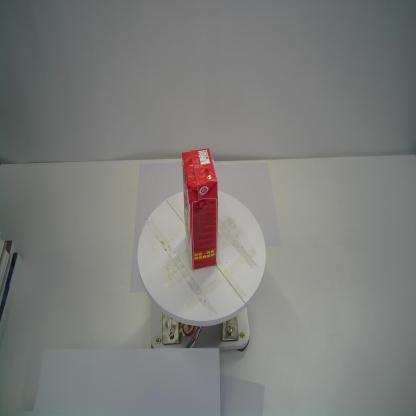Milk: (182, 146, 218, 272)
